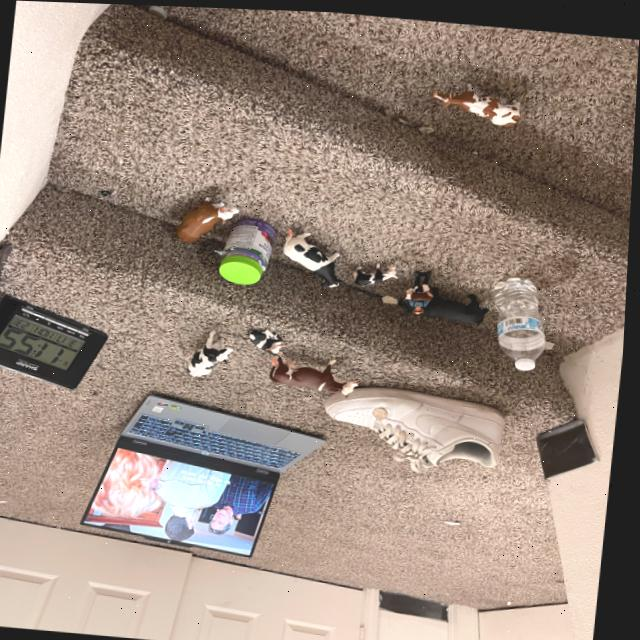cow: (279, 219, 358, 289), (432, 76, 525, 127), (272, 348, 364, 395), (172, 186, 242, 247), (187, 325, 242, 384), (425, 282, 494, 324), (354, 256, 401, 286), (250, 323, 289, 352), (409, 280, 436, 298), (400, 295, 422, 311)
person: (411, 296, 433, 312)
